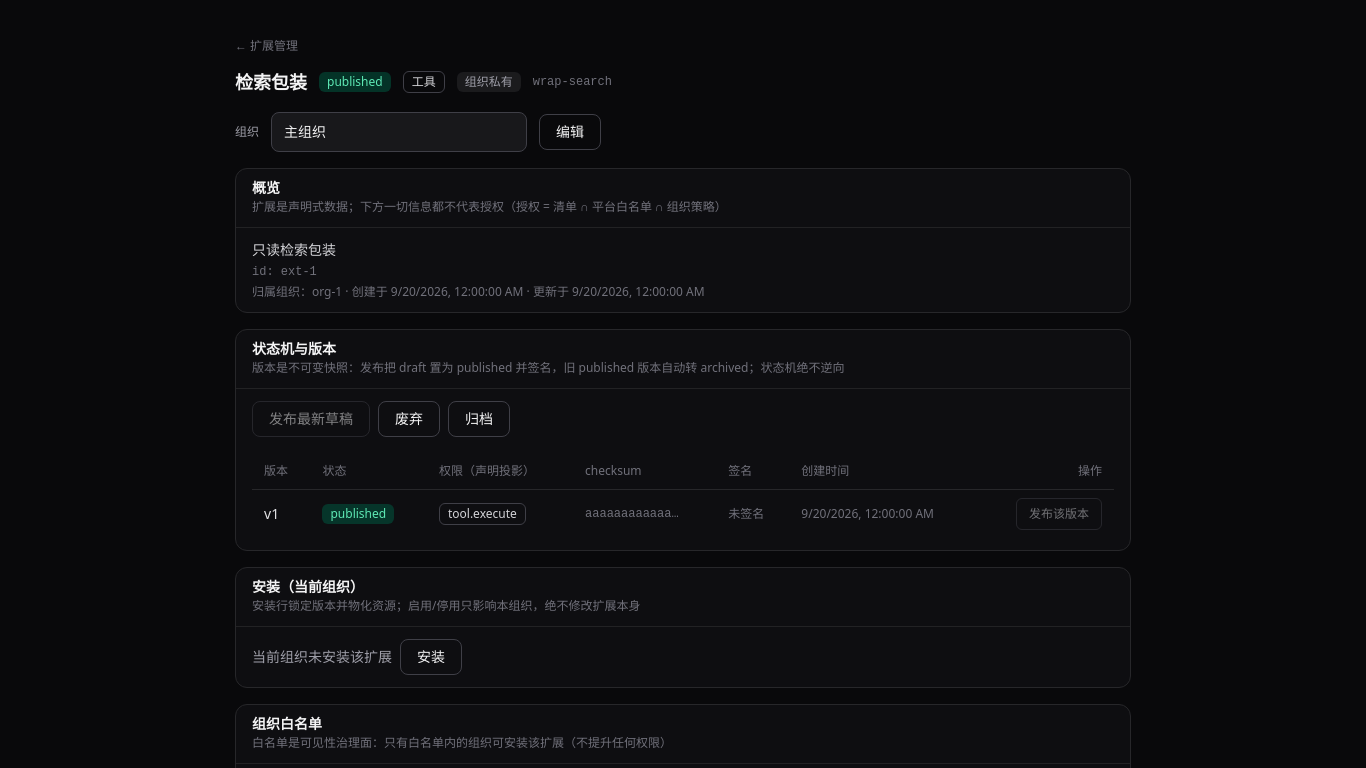
Scenario: 扩展详情：安装态 › 未安装：弹窗确认后 POST /install（锁定版本 + 当前组织）
The image size is (1366, 768).
Check: the heading "检索包装" is shown, box [235, 68, 307, 96]
Check: the text "当前组织未安装该扩展" is shown, box [252, 646, 392, 666]
Click the button "安装": [431, 656] box [400, 638, 462, 674]
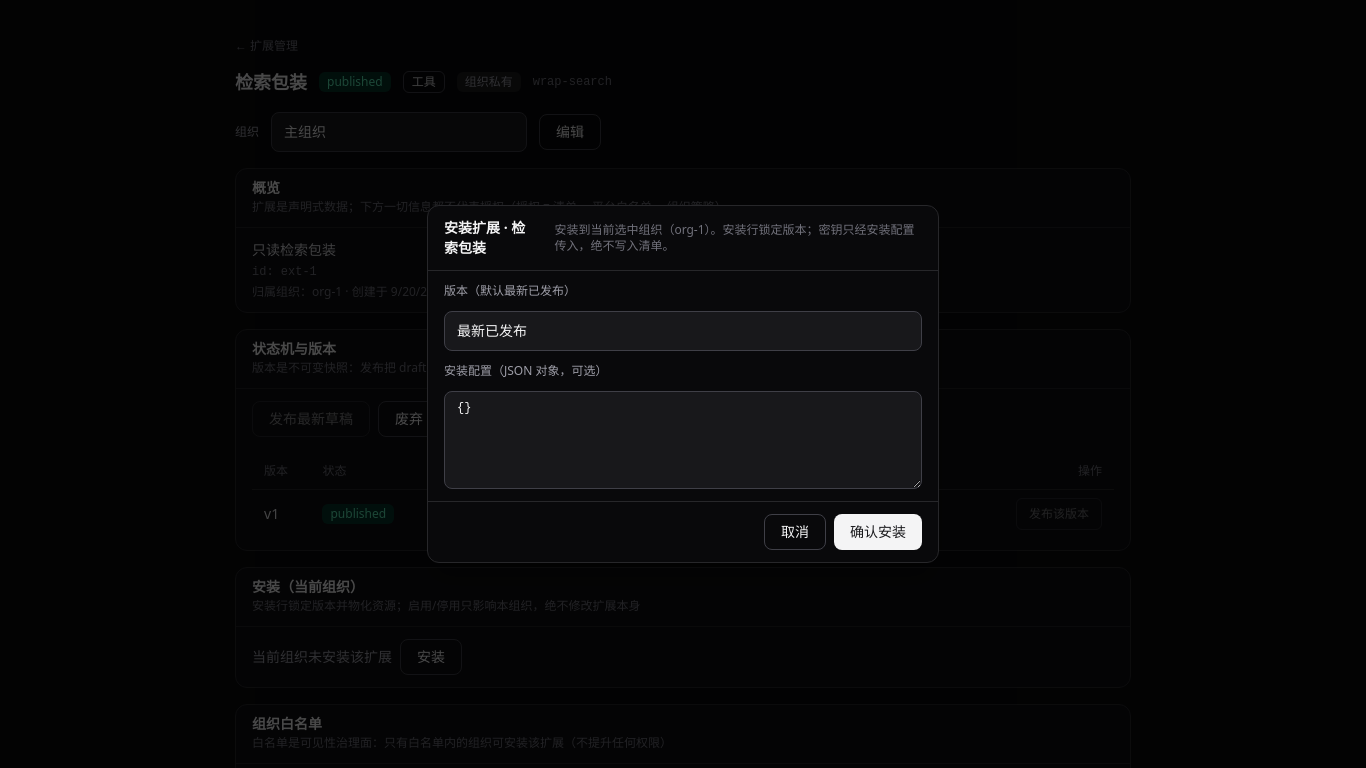
Click the button "确认安装": [878, 532] box [834, 514, 922, 550]
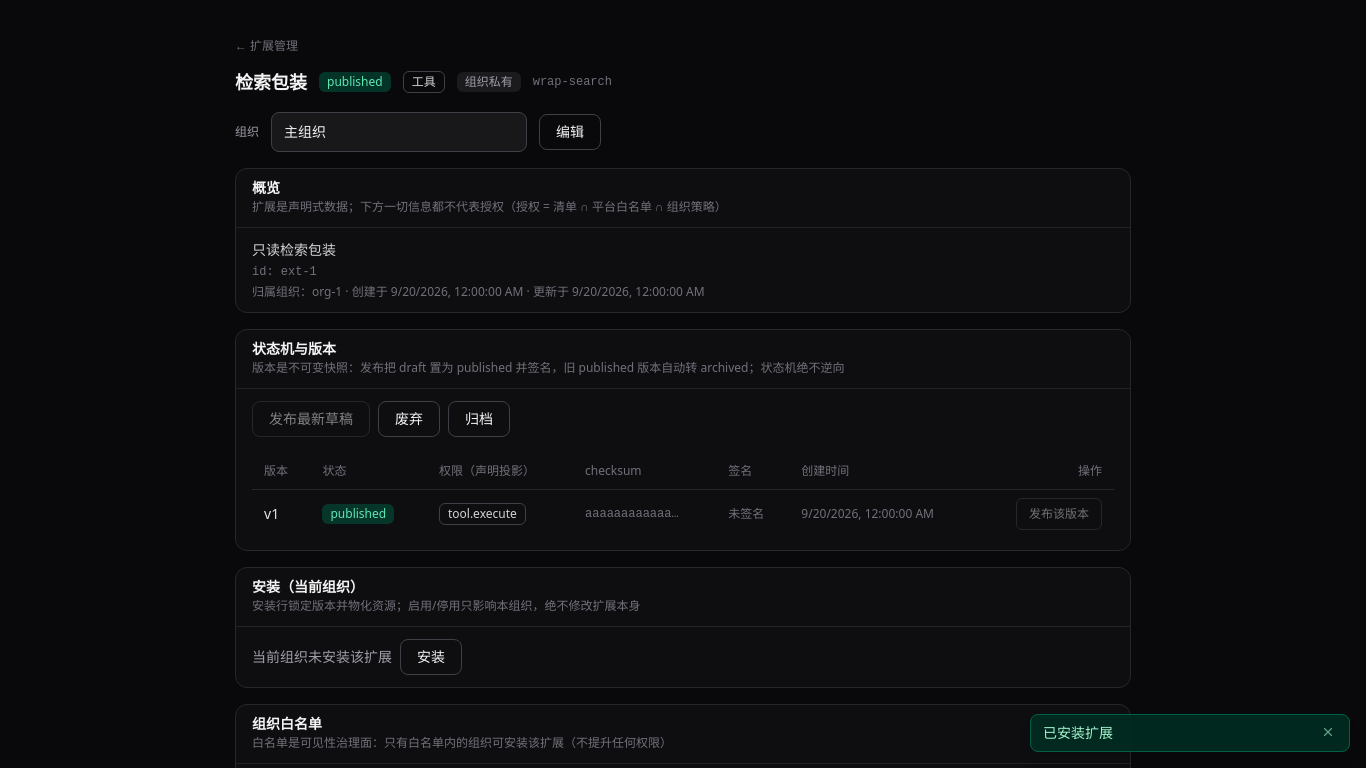
Check: the text "已安装扩展" is shown, box [1043, 723, 1113, 742]
